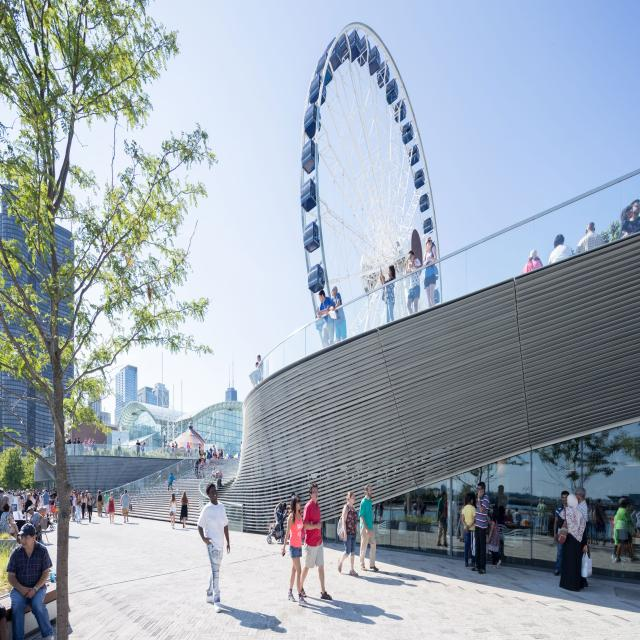body: (6, 523, 56, 640), (373, 491, 467, 548), (195, 482, 231, 614), (297, 594, 406, 632), (300, 482, 333, 600), (556, 492, 594, 594), (586, 496, 640, 566), (490, 484, 552, 540), (279, 491, 308, 609), (211, 598, 291, 636), (340, 561, 439, 588), (336, 490, 359, 578), (358, 482, 380, 572), (471, 481, 490, 575), (553, 490, 570, 577), (3, 484, 48, 516), (460, 492, 477, 568), (404, 250, 422, 316), (422, 235, 438, 309), (316, 288, 336, 346), (378, 263, 396, 324), (485, 506, 502, 570), (574, 220, 604, 256), (329, 286, 347, 343), (548, 233, 573, 266), (0, 503, 20, 542), (618, 205, 636, 238), (24, 505, 44, 534), (522, 249, 544, 275), (178, 490, 191, 529), (574, 486, 588, 522), (629, 198, 640, 235), (120, 488, 130, 524), (23, 492, 36, 518), (254, 360, 263, 396), (266, 512, 280, 535), (49, 488, 58, 522), (169, 492, 177, 530), (84, 492, 94, 522), (107, 491, 116, 524), (74, 492, 83, 524), (0, 487, 10, 511), (96, 490, 104, 518), (80, 491, 87, 519), (103, 491, 110, 517), (167, 472, 176, 492), (274, 501, 287, 514), (257, 354, 263, 382), (69, 494, 75, 521), (208, 466, 218, 482), (54, 493, 59, 524), (71, 490, 76, 519), (46, 440, 55, 456), (84, 490, 89, 518), (64, 438, 72, 455), (205, 449, 212, 468), (32, 488, 38, 508), (174, 526, 198, 531), (193, 459, 199, 478), (116, 438, 122, 457), (91, 438, 97, 456), (48, 491, 52, 518), (173, 440, 178, 460), (468, 538, 472, 563), (216, 466, 223, 480), (102, 440, 108, 456), (83, 438, 88, 457), (216, 474, 222, 489), (211, 444, 216, 462), (87, 438, 92, 456), (186, 442, 191, 459), (166, 442, 171, 459), (200, 457, 204, 478), (79, 441, 84, 457), (17, 496, 22, 512), (136, 440, 140, 458), (171, 442, 175, 459), (20, 499, 24, 515), (129, 496, 133, 512), (65, 536, 81, 540), (208, 448, 212, 463), (217, 449, 223, 459), (95, 501, 99, 516), (202, 451, 206, 464), (41, 443, 46, 452), (214, 452, 218, 463), (198, 453, 202, 464), (74, 490, 81, 496), (126, 522, 140, 525), (113, 522, 123, 526), (90, 521, 100, 525), (198, 443, 201, 455), (223, 454, 230, 459), (119, 503, 123, 511), (209, 450, 212, 460), (140, 442, 146, 447), (77, 437, 81, 444), (240, 440, 242, 453), (197, 471, 200, 479), (73, 438, 77, 444), (54, 490, 58, 496), (120, 492, 124, 498), (101, 499, 104, 506), (231, 454, 234, 459), (77, 438, 78, 440)
